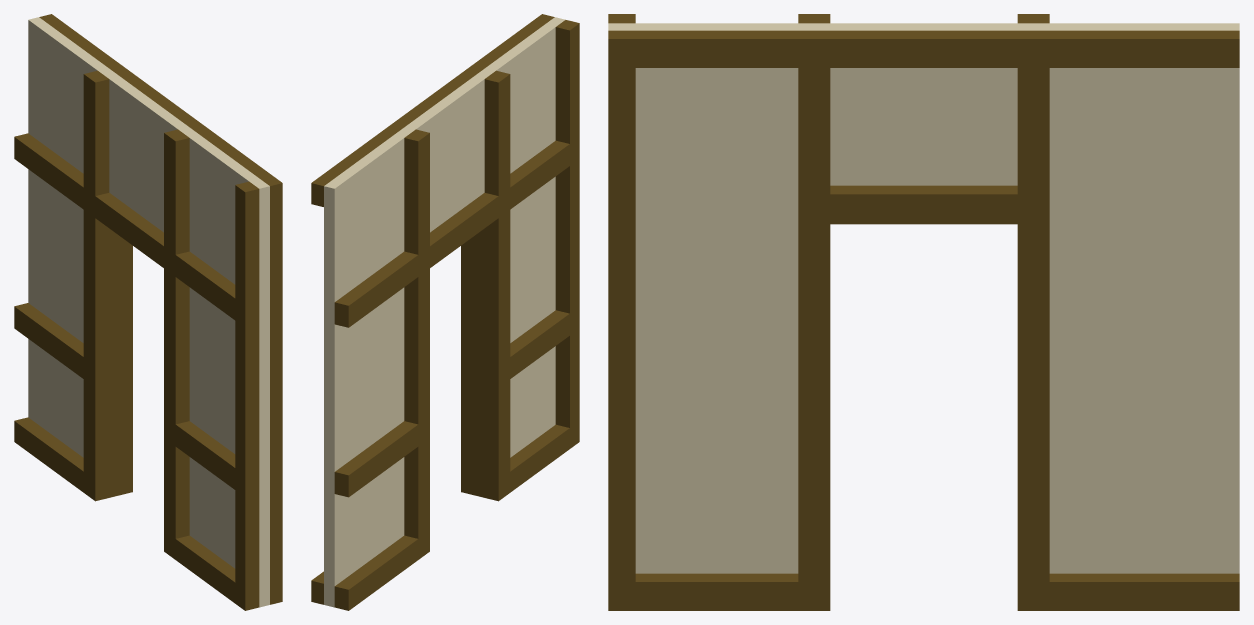
File: Doorway.fbx
The picture shows the model from 3 angles, left to right: view 1: azimuth 30°, elevation 25°; view 2: azimuth 150°, elevation 25°; view 3: azimuth 270°, elevation 25°; orthographic projection. The views are drawn at different scales.
Visible parts, largest first — view 1: pCube126; view 2: pCube126; view 3: pCube126.
Boxes of the visible parts, x1,y1,x2,y2 form: pCube126: (14,14,282,610); pCube126: (311,14,579,610); pCube126: (608,14,1239,610).
Size of the model in its own units: 0.2823 by 3 by 3.
